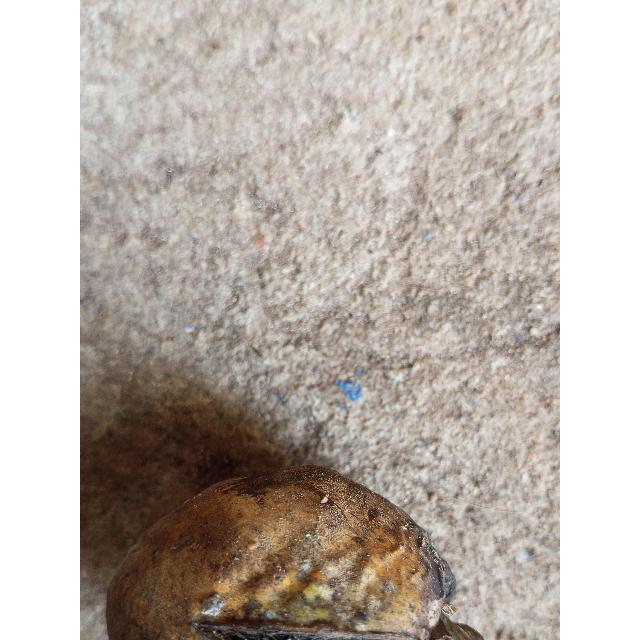damaged: (104, 463, 482, 640)
